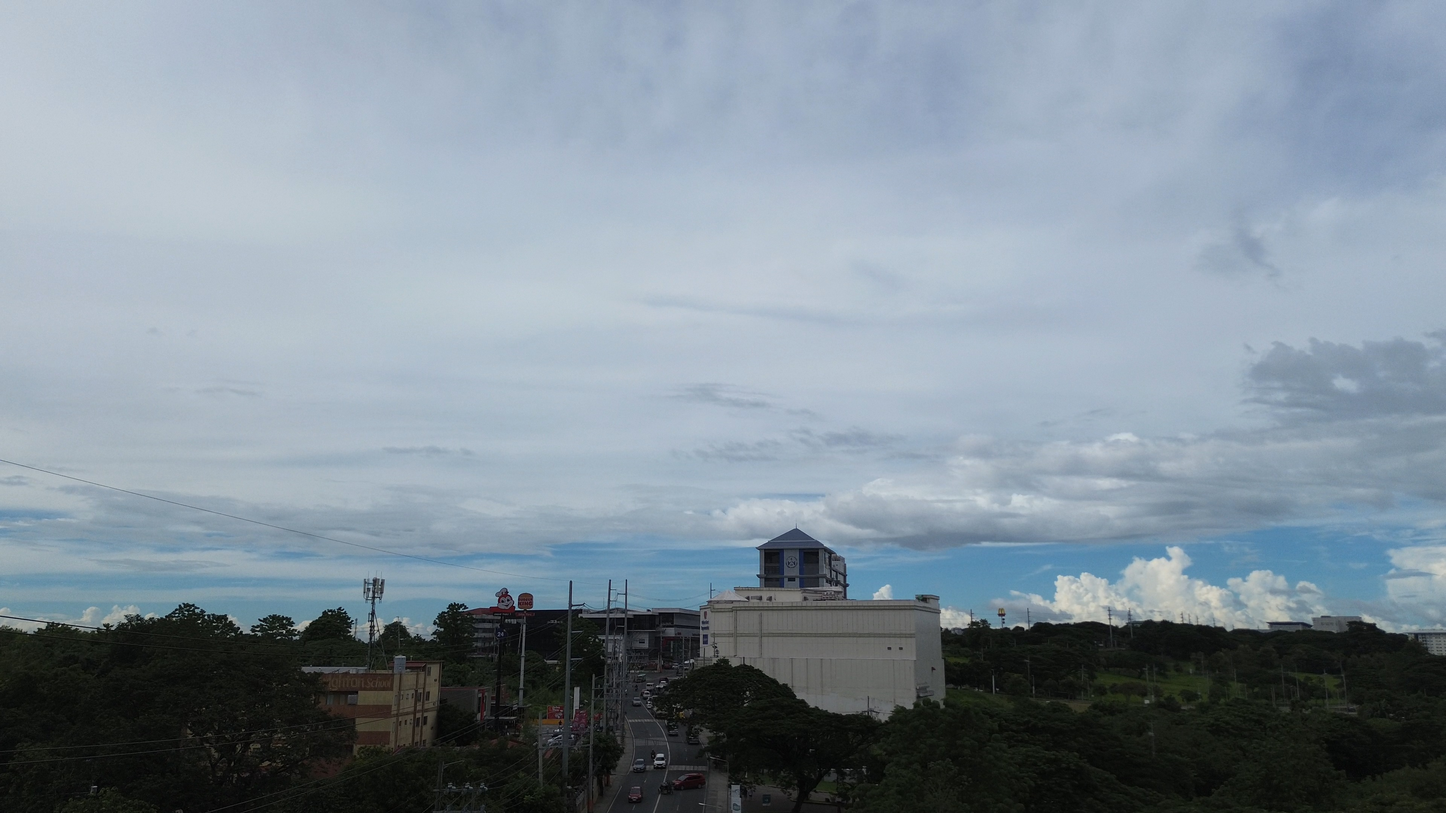car: (673, 773, 705, 790), (627, 786, 643, 802), (653, 753, 667, 769), (631, 757, 646, 770)
vehicle: (686, 730, 700, 744), (659, 780, 673, 794), (631, 696, 642, 706)
